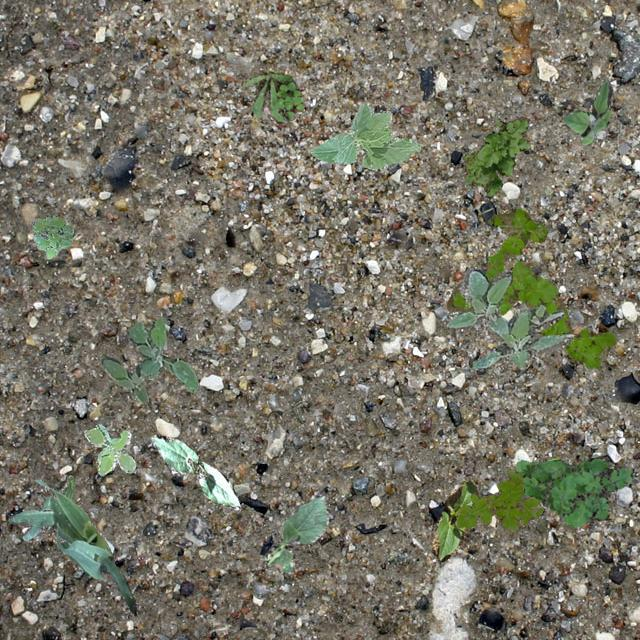crop: (8, 474, 136, 614), (310, 101, 420, 168), (150, 434, 240, 508), (266, 492, 328, 576), (430, 478, 478, 560)
weed: (446, 208, 614, 368), (442, 266, 572, 368), (99, 316, 198, 402), (514, 456, 630, 526), (454, 468, 542, 532), (462, 116, 528, 194), (240, 70, 304, 124), (560, 80, 612, 144), (84, 424, 134, 474), (31, 215, 74, 258)
